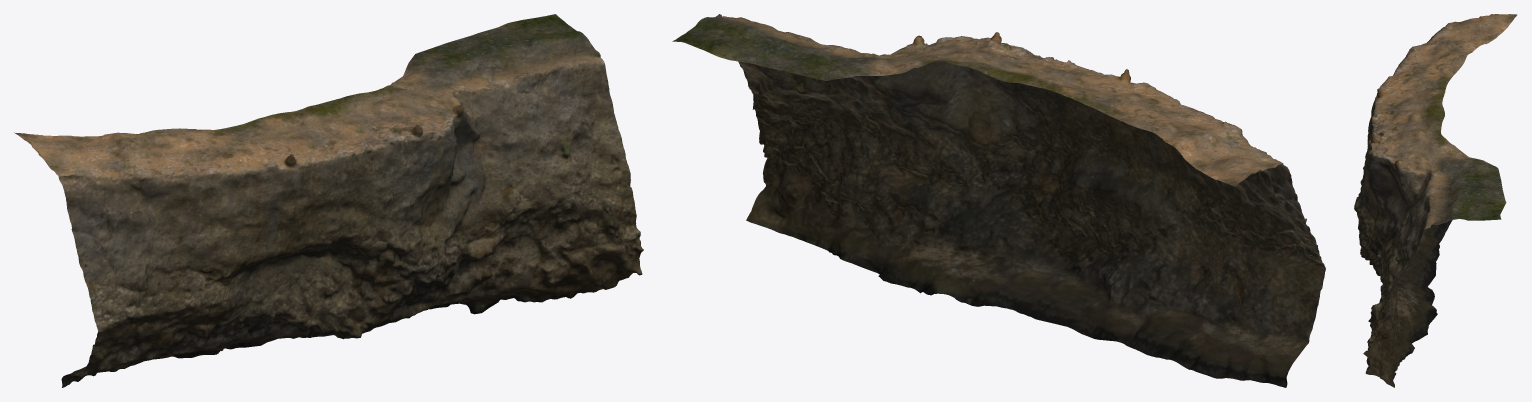
File: cliff_scan_lod0.fbx
The picture shows the model from 3 angles, left to right: view 1: azimuth 30°, elevation 25°; view 2: azimuth 150°, elevation 25°; view 3: azimuth 270°, elevation 25°; orthographic projection. The views are drawn at different scales.
Parts seen in each view (by area): view 1: cliff_section_0; view 2: cliff_section_0; view 3: cliff_section_0.
Part boxes in pixels (left/top/right/bottom): cliff_section_0: left=14, top=14, right=643, bottom=387; cliff_section_0: left=672, top=14, right=1325, bottom=387; cliff_section_0: left=1354, top=14, right=1517, bottom=387.
Size of the model in its own units: 2400 by 1001 by 820.
Materials: 1 (1 with a texture image).
